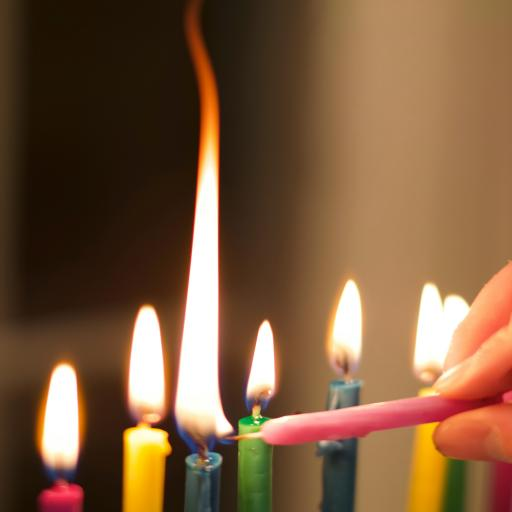candlelight: (176, 13, 242, 512), (403, 266, 477, 512), (308, 279, 377, 512), (107, 300, 178, 512), (34, 347, 100, 512), (238, 307, 286, 512)
fire: (188, 30, 216, 418), (125, 306, 168, 427), (417, 270, 477, 356), (322, 272, 372, 358), (42, 364, 80, 474), (246, 318, 285, 405)
